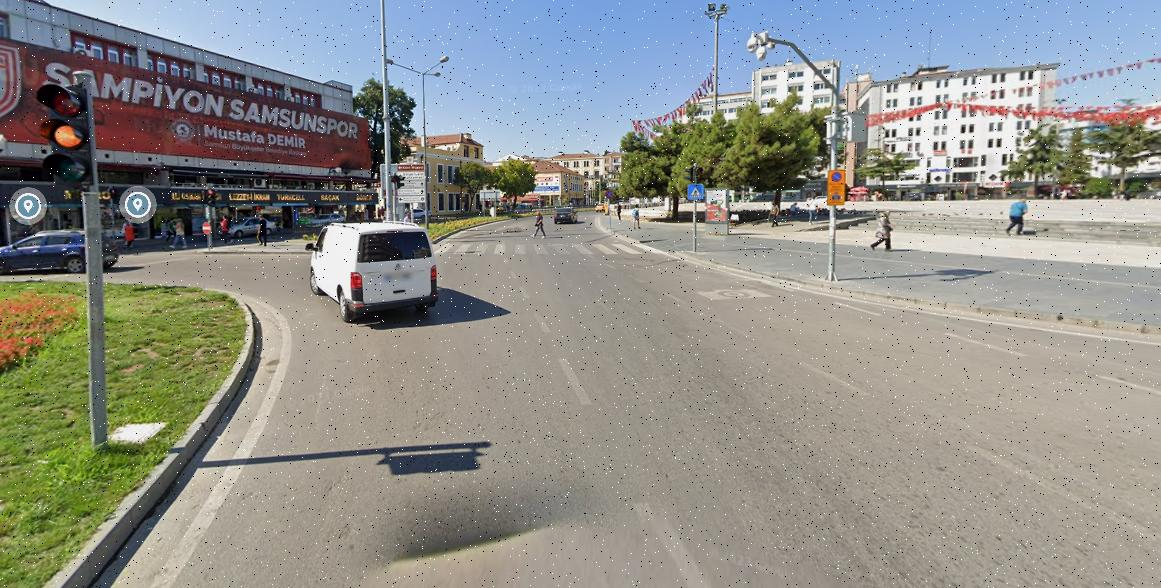yellowlight: (36, 80, 91, 183)
